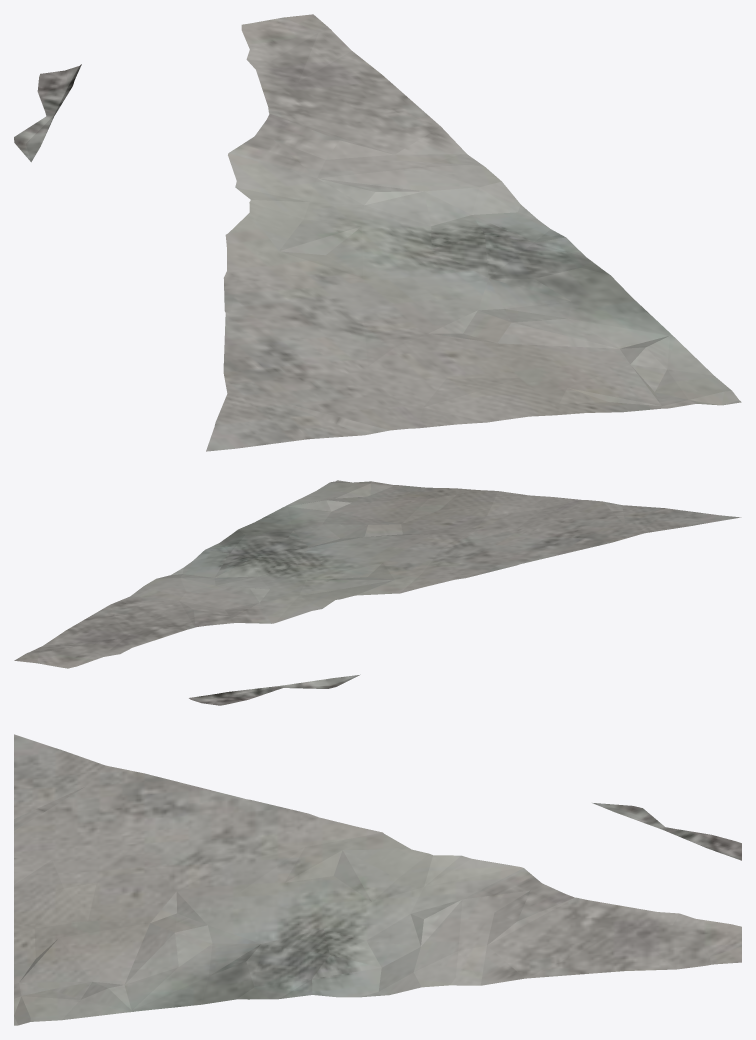
The picture shows the model from 3 angles, top to bottom: view 1: azimuth 30°, elevation 25°; view 2: azimuth 150°, elevation 25°; view 3: azimuth 270°, elevation 25°; orthographic projection. The views are drawn at different scales.
Size of the model in its own units: 0.6049 by 0.0879 by 0.8373.
Materials: 1 (1 with a texture image).
